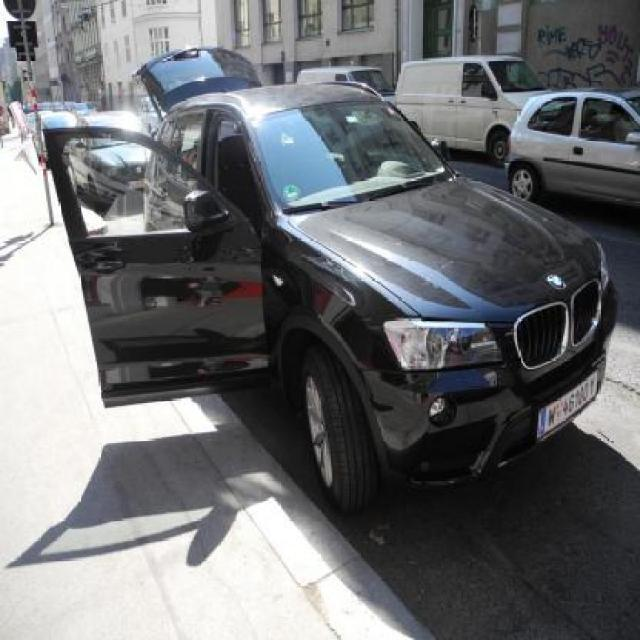License-Plates: (534, 366, 604, 445)
